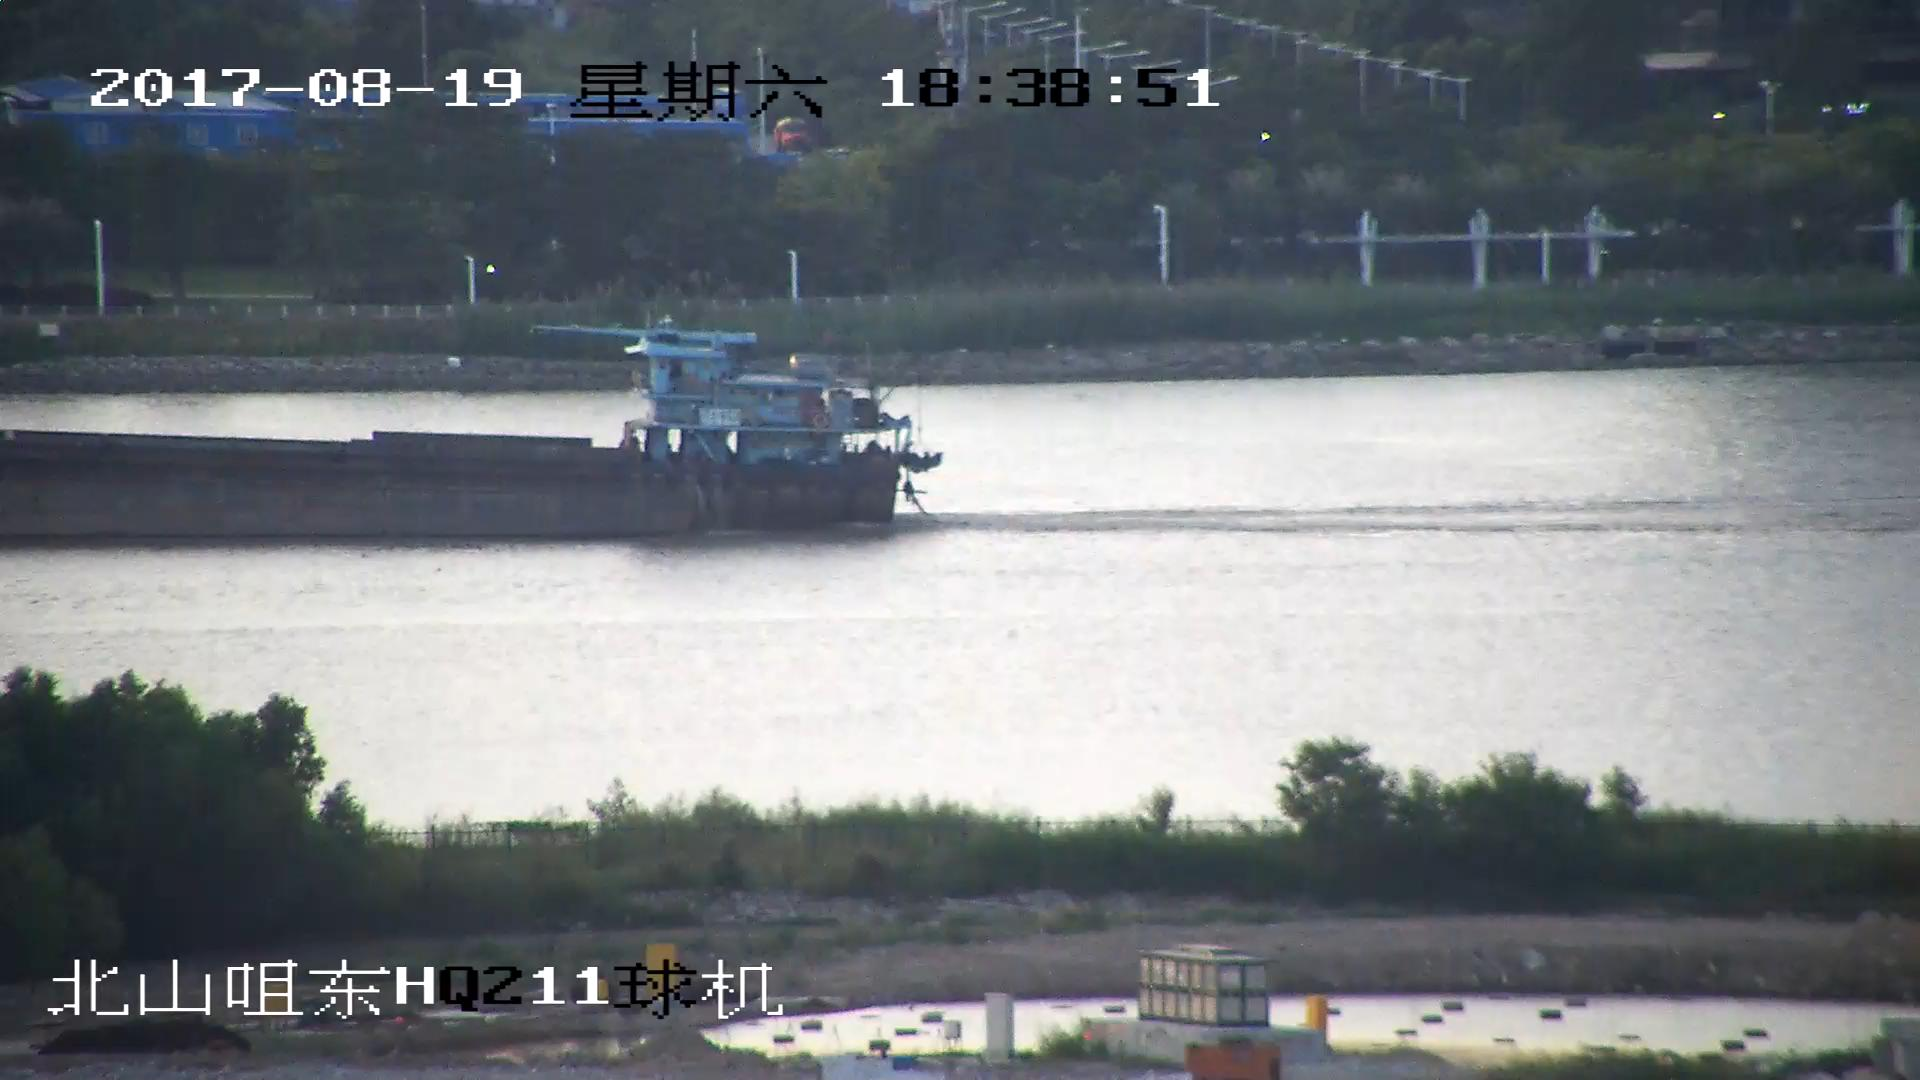bulk cargo carrier: (1, 326, 932, 544)
